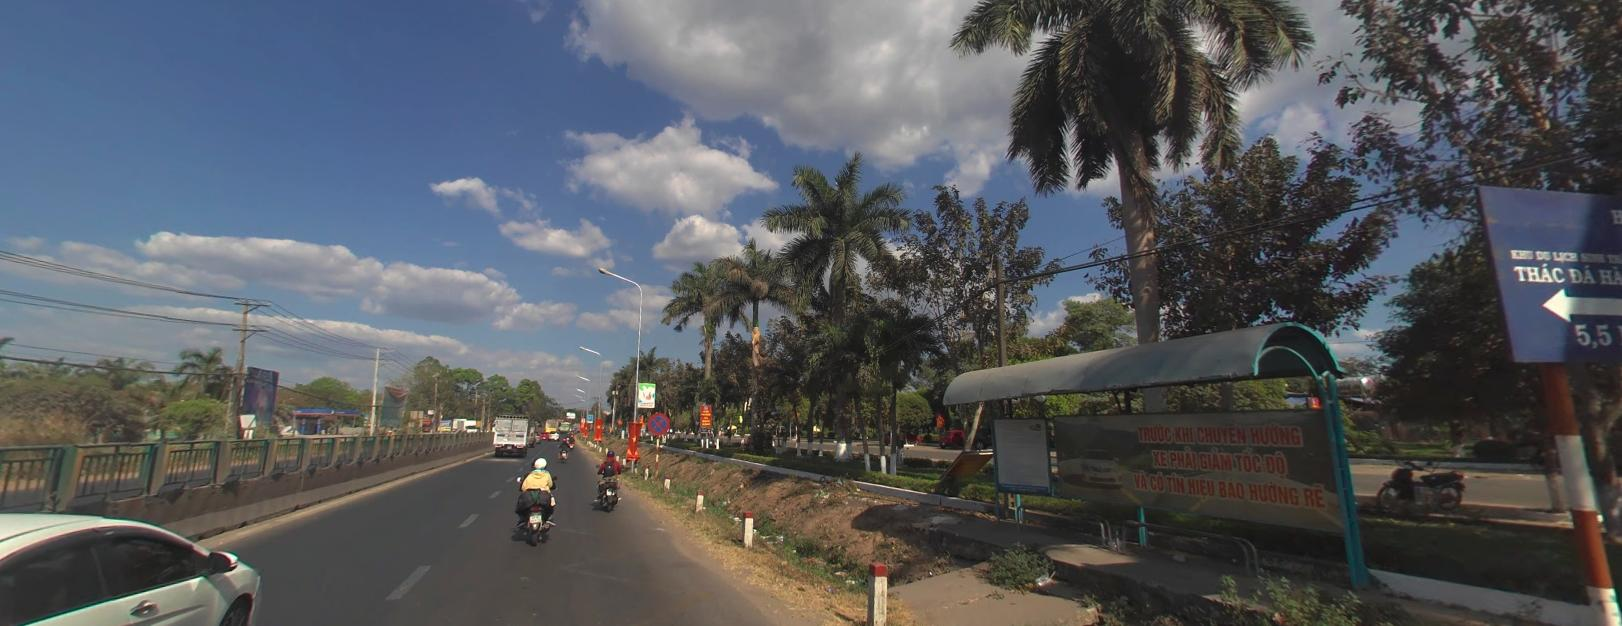Cam dung va do: (648, 410, 670, 433)
